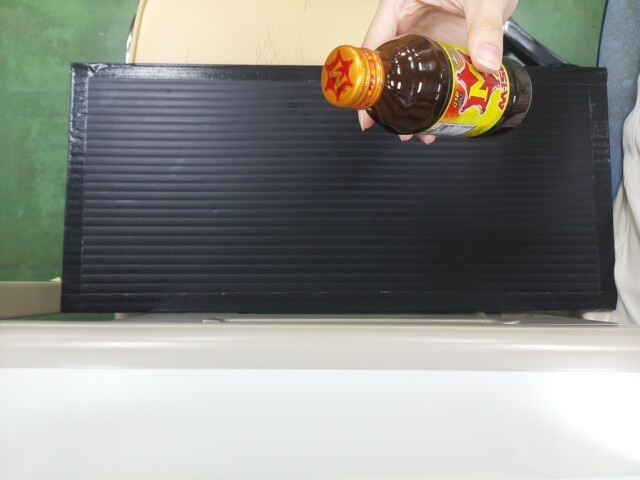glass_bottle: (325, 38, 528, 132)
